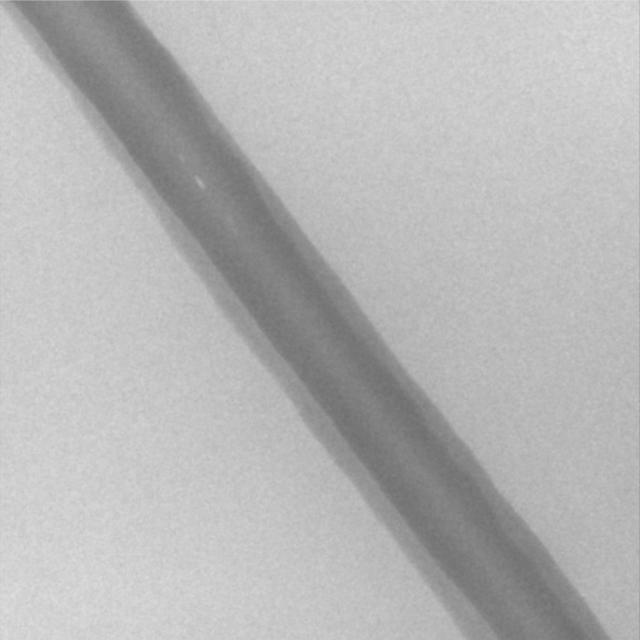air hole: (193, 173, 206, 189)
